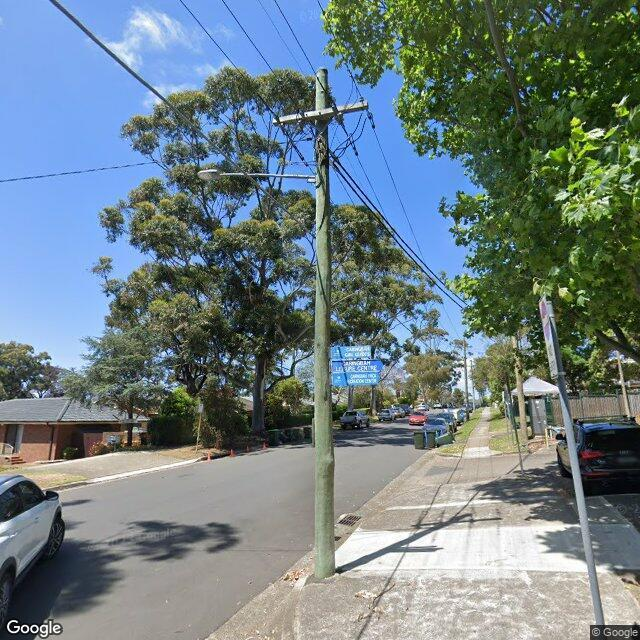crossarm: (271, 99, 370, 127)
streetlight: (196, 169, 316, 183)
timber-pole: (314, 68, 336, 580), (511, 332, 530, 442), (462, 335, 471, 422)
